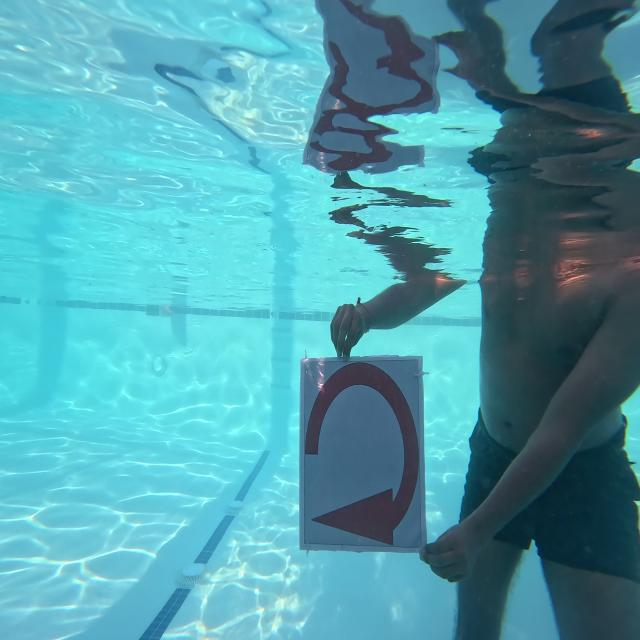red_side: (295, 348, 430, 571)
